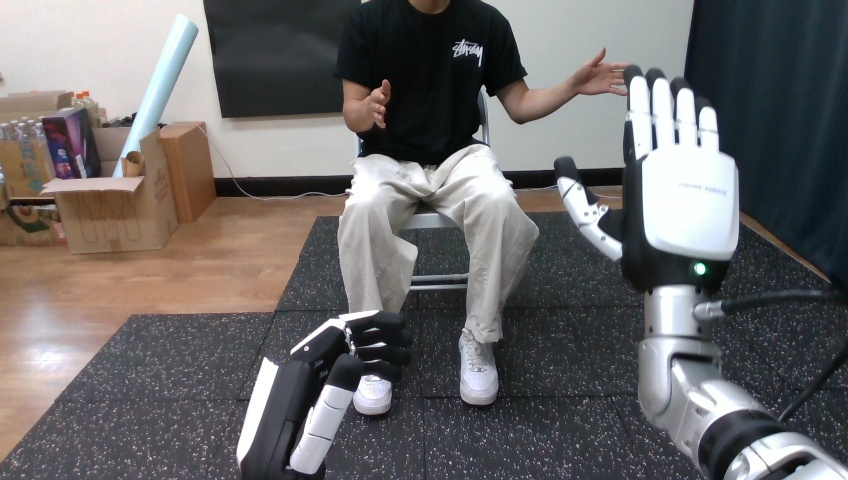left robot hand: (555, 66, 847, 479), (237, 310, 411, 478), (570, 48, 626, 95)
